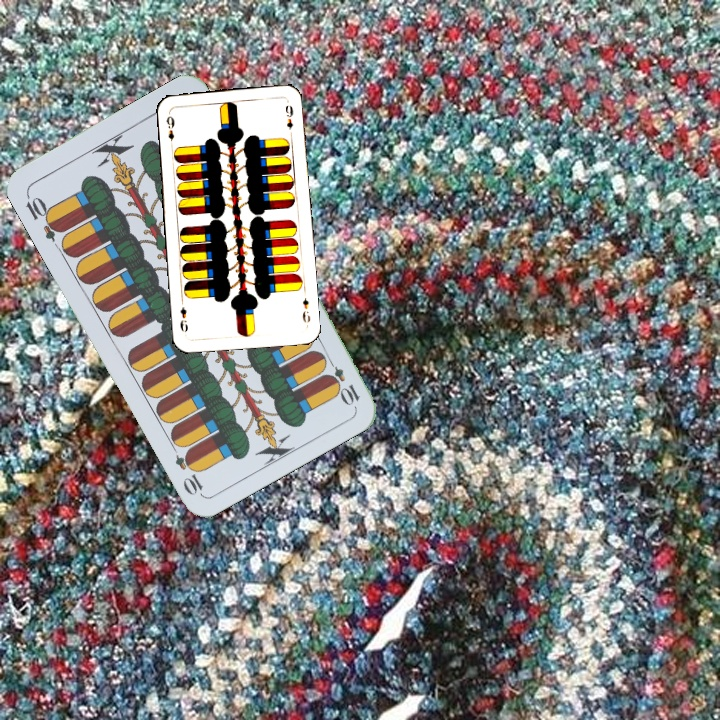E10: (21, 190, 66, 244), (321, 353, 363, 408)
E9: (162, 112, 177, 149), (298, 294, 312, 328)
